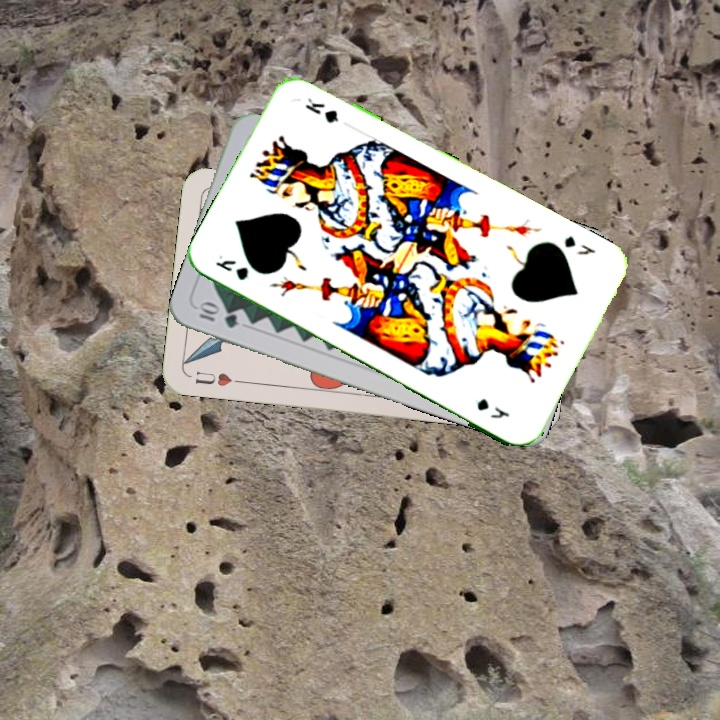G10: (195, 298, 242, 331)
GK: (211, 250, 251, 283), (560, 231, 599, 258)
HU: (191, 367, 245, 389)
